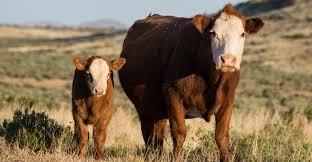cow: (118, 4, 265, 162), (71, 56, 126, 159)
